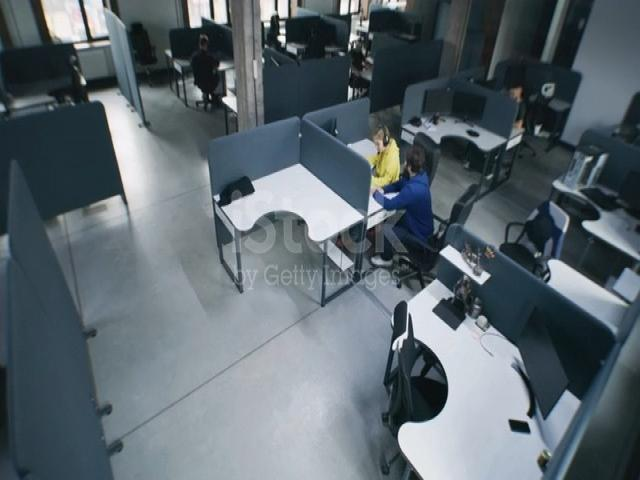EMPTY_CHAIR: (384, 280, 466, 463), (487, 188, 583, 288), (122, 6, 173, 87), (46, 48, 94, 112), (612, 91, 640, 165)
PERSON_IN_CHAIR: (401, 131, 485, 285), (326, 108, 398, 267), (189, 20, 253, 128), (490, 46, 543, 165), (333, 24, 395, 112)
